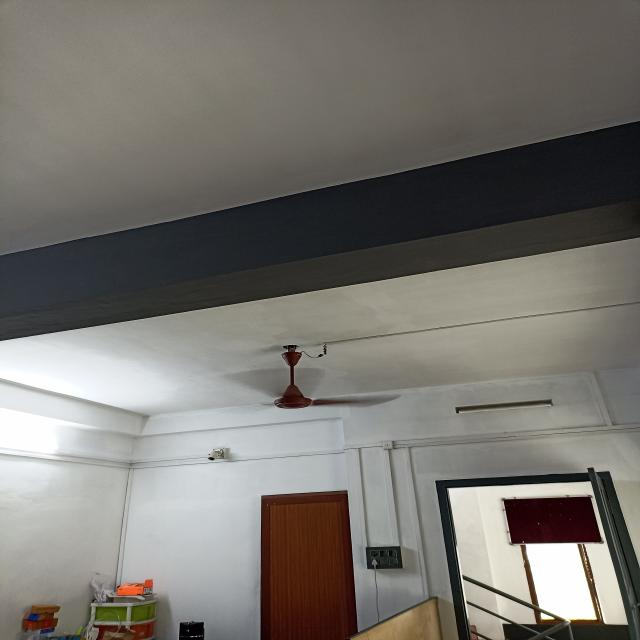fan: (220, 344, 401, 409)
